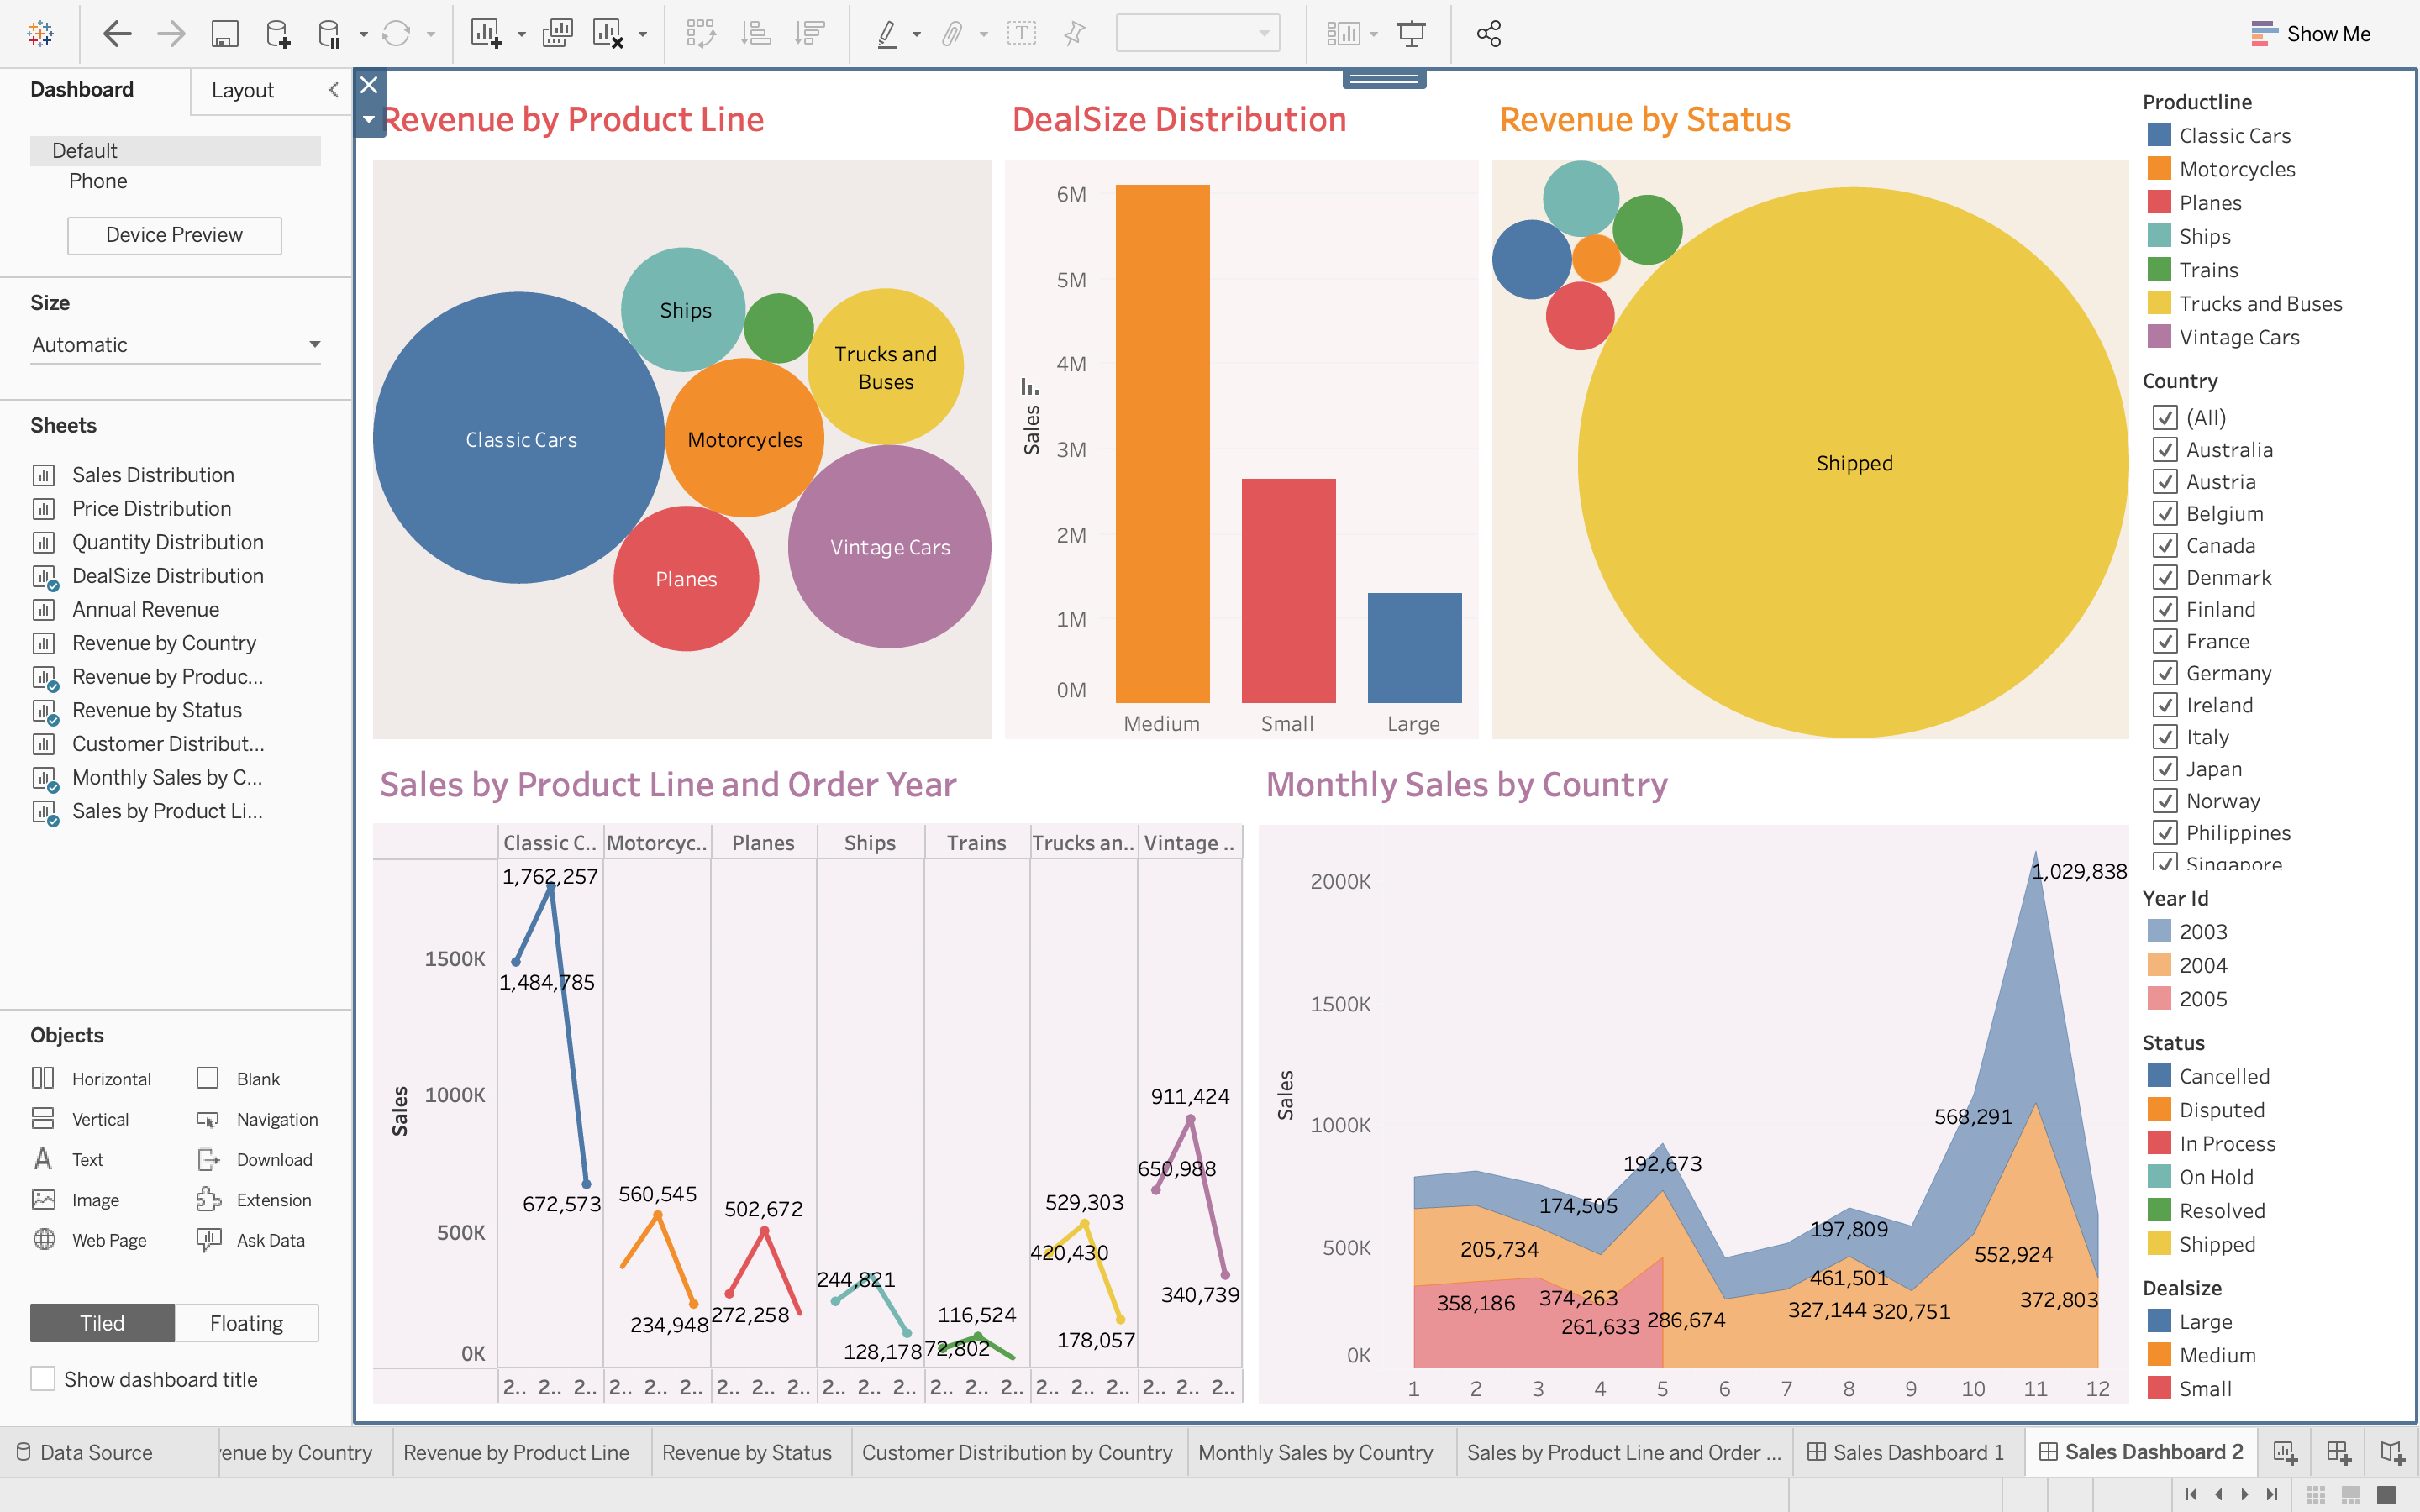

This screenshot's page, from the dashboard's own definition file:
{"tool":"tableau","page":{"name":"Sales Dashboard 2","canvas":[1000,1000],"units":"permille","ordinal":1},"visuals":[{"type":"worksheet","title":"Revenue by Product Line","mark":"Circle","box":[6.5,9.9,305.9,490.1]},{"type":"worksheet","title":"DealSize Distribution","mark":"Automatic","rows":["SALES"],"cols":["DEALSIZE"],"box":[312.4,9.9,236,490.1]},{"type":"worksheet","title":"Revenue by Status","mark":"Circle","box":[548.4,9.9,314.9,490.1]},{"type":"legend","title":"Sales by Product Line and Order Year","param":"[federated.1t8adoc08vdkdy1071w9w01g8w30].[none:PRODUCTLINE:nk]","box":[863.3,9.9,130.2,205.4]},{"type":"filter","title":"Monthly Sales by Country","param":"[federated.1t8adoc08vdkdy1071w9w01g8w30].[none:COUNTRY:nk]","box":[863.3,215.3,130.2,381.2]},{"type":"worksheet","title":"Sales by Product Line and Order Year","mark":"Line","rows":["SALES"],"cols":["PRODUCTLINE","YEAR_ID"],"box":[6.5,500,428.4,490.1]},{"type":"worksheet","title":"Monthly Sales by Country","mark":"Area","rows":["SALES"],"cols":["MONTH_ID"],"box":[434.9,500,428.4,490.1]},{"type":"legend","title":"Monthly Sales by Country","param":"[federated.1t8adoc08vdkdy1071w9w01g8w30].[none:YEAR_ID:ok]","box":[863.3,596.6,130.2,106.4]},{"type":"legend","title":"Revenue by Status","param":"[federated.1t8adoc08vdkdy1071w9w01g8w30].[none:STATUS:nk]","box":[863.3,703,130.2,180.7]},{"type":"legend","title":"DealSize Distribution","param":"[federated.1t8adoc08vdkdy1071w9w01g8w30].[none:DEALSIZE:nk]","box":[863.3,883.7,130.2,106.4]}]}

Visuals, with their boxes on the dashboard's canvas, which has no fixed pixel size, in thousandths of its width and height (x1, y1, x2, y2). These are canvas units, not pixel positions in the 2420x1512 screenshot, which may show the page scaled, cropped or inside an application window:
"Revenue by Product Line" worksheet (Circle marks): bbox=[6, 10, 312, 500]
"DealSize Distribution" worksheet: bbox=[312, 10, 548, 500]
"Revenue by Status" worksheet (Circle marks): bbox=[548, 10, 863, 500]
"Sales by Product Line and Order Year" legend: bbox=[863, 10, 994, 215]
"Monthly Sales by Country" filter: bbox=[863, 215, 994, 596]
"Sales by Product Line and Order Year" worksheet (Line marks): bbox=[6, 500, 435, 990]
"Monthly Sales by Country" worksheet (Area marks): bbox=[435, 500, 863, 990]
"Monthly Sales by Country" legend: bbox=[863, 597, 994, 703]
"Revenue by Status" legend: bbox=[863, 703, 994, 884]
"DealSize Distribution" legend: bbox=[863, 884, 994, 990]
